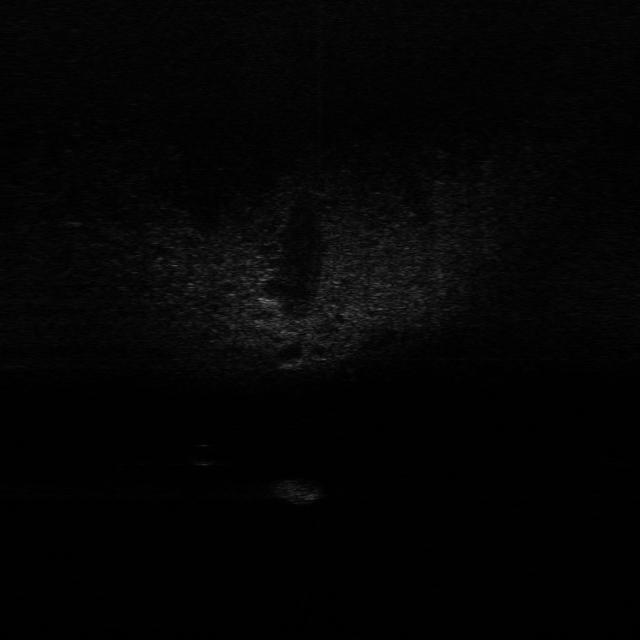ball: (188, 442, 221, 468)
circle cage: (256, 475, 326, 508)
